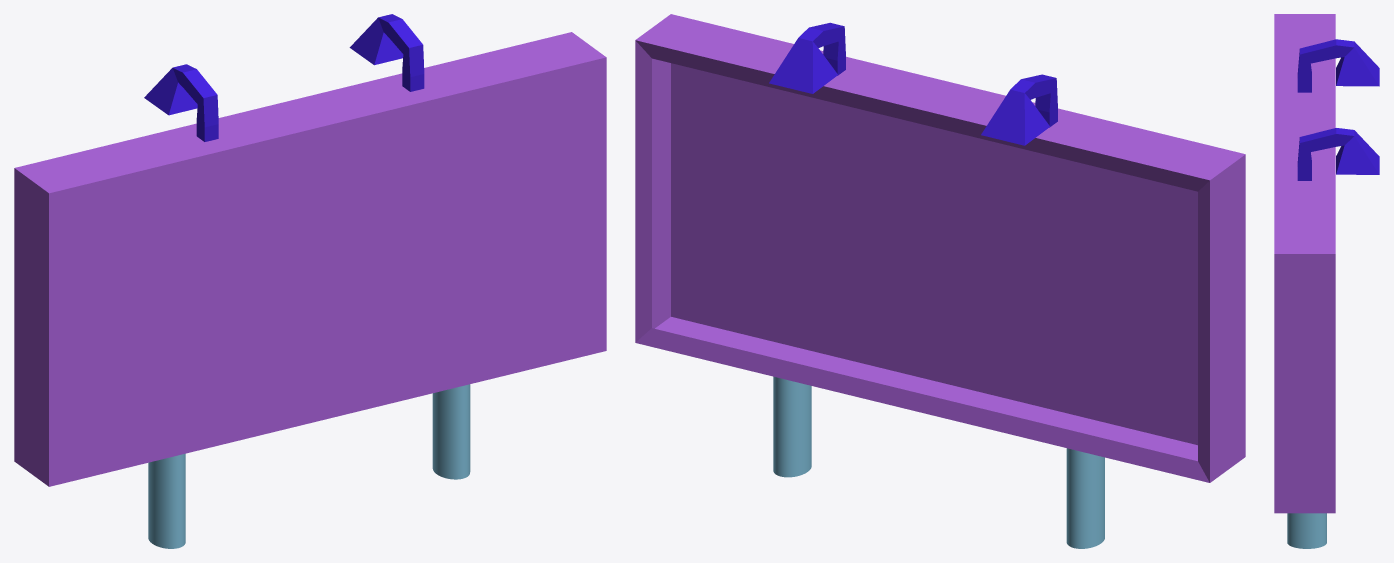
The model's file is billboard.glb.
The picture shows the model from 3 angles, left to right: view 1: azimuth 30°, elevation 25°; view 2: azimuth 150°, elevation 25°; view 3: azimuth 270°, elevation 25°; orthographic projection. The views are drawn at different scales.
Visible parts, largest first — view 1: Cube, Cylinder, Cube.001; view 2: Cube, Cylinder, Cube.001; view 3: Cube, Cube.001, Cylinder.
Boxes of the visible parts, x1,y1,x2,y2 form: Cube: (14, 32, 606, 486); Cylinder: (148, 384, 470, 548); Cube.001: (144, 14, 424, 141); Cube: (635, 14, 1245, 482); Cylinder: (773, 376, 1104, 548); Cube.001: (769, 22, 1057, 145); Cube: (1274, 14, 1335, 513); Cube.001: (1297, 39, 1379, 180); Cylinder: (1287, 513, 1326, 548).
Size of the model in its own units: 15.68 by 12.02 by 2.91.
